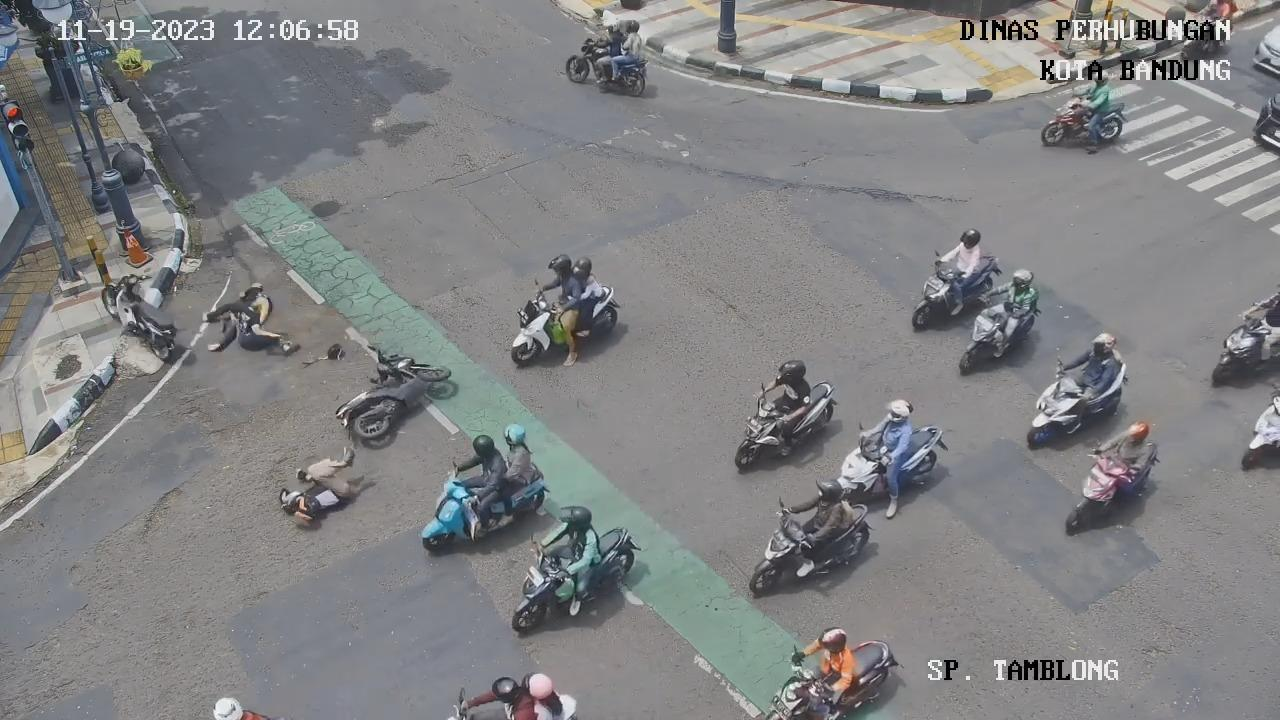accident: (259, 442, 388, 540), (193, 282, 300, 370)
